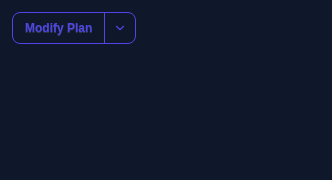
the arrow opens a menu of options, and picking one runs it and closes the menu
The image size is (332, 180).
Step 1. Click the button named "More Modify Plan options" → click(120, 28), box 104,12 -> 136,44
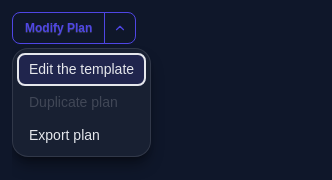
Now the button named "More Modify Plan options" is expanded, box 104,12 -> 136,44
Now the menu items read "Edit the template", "Duplicate plan", "Export plan", in this order
Step 2. Click the menu item "Export plan" → click(82, 136), box 17,119 -> 146,152
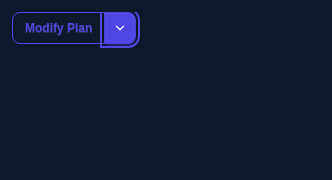
Now the menu is gone
